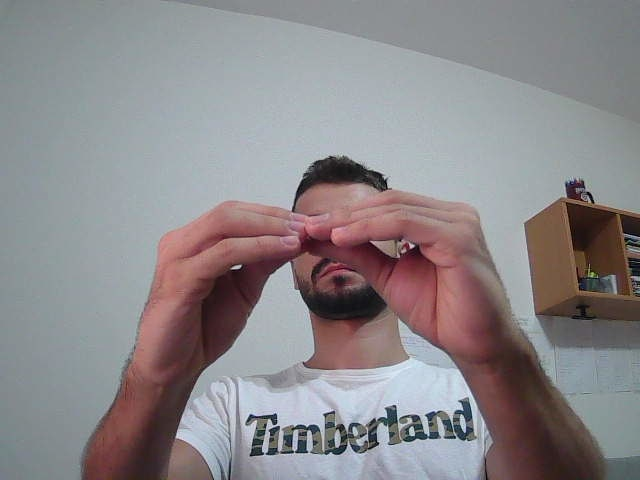b: (92, 168, 583, 384)
